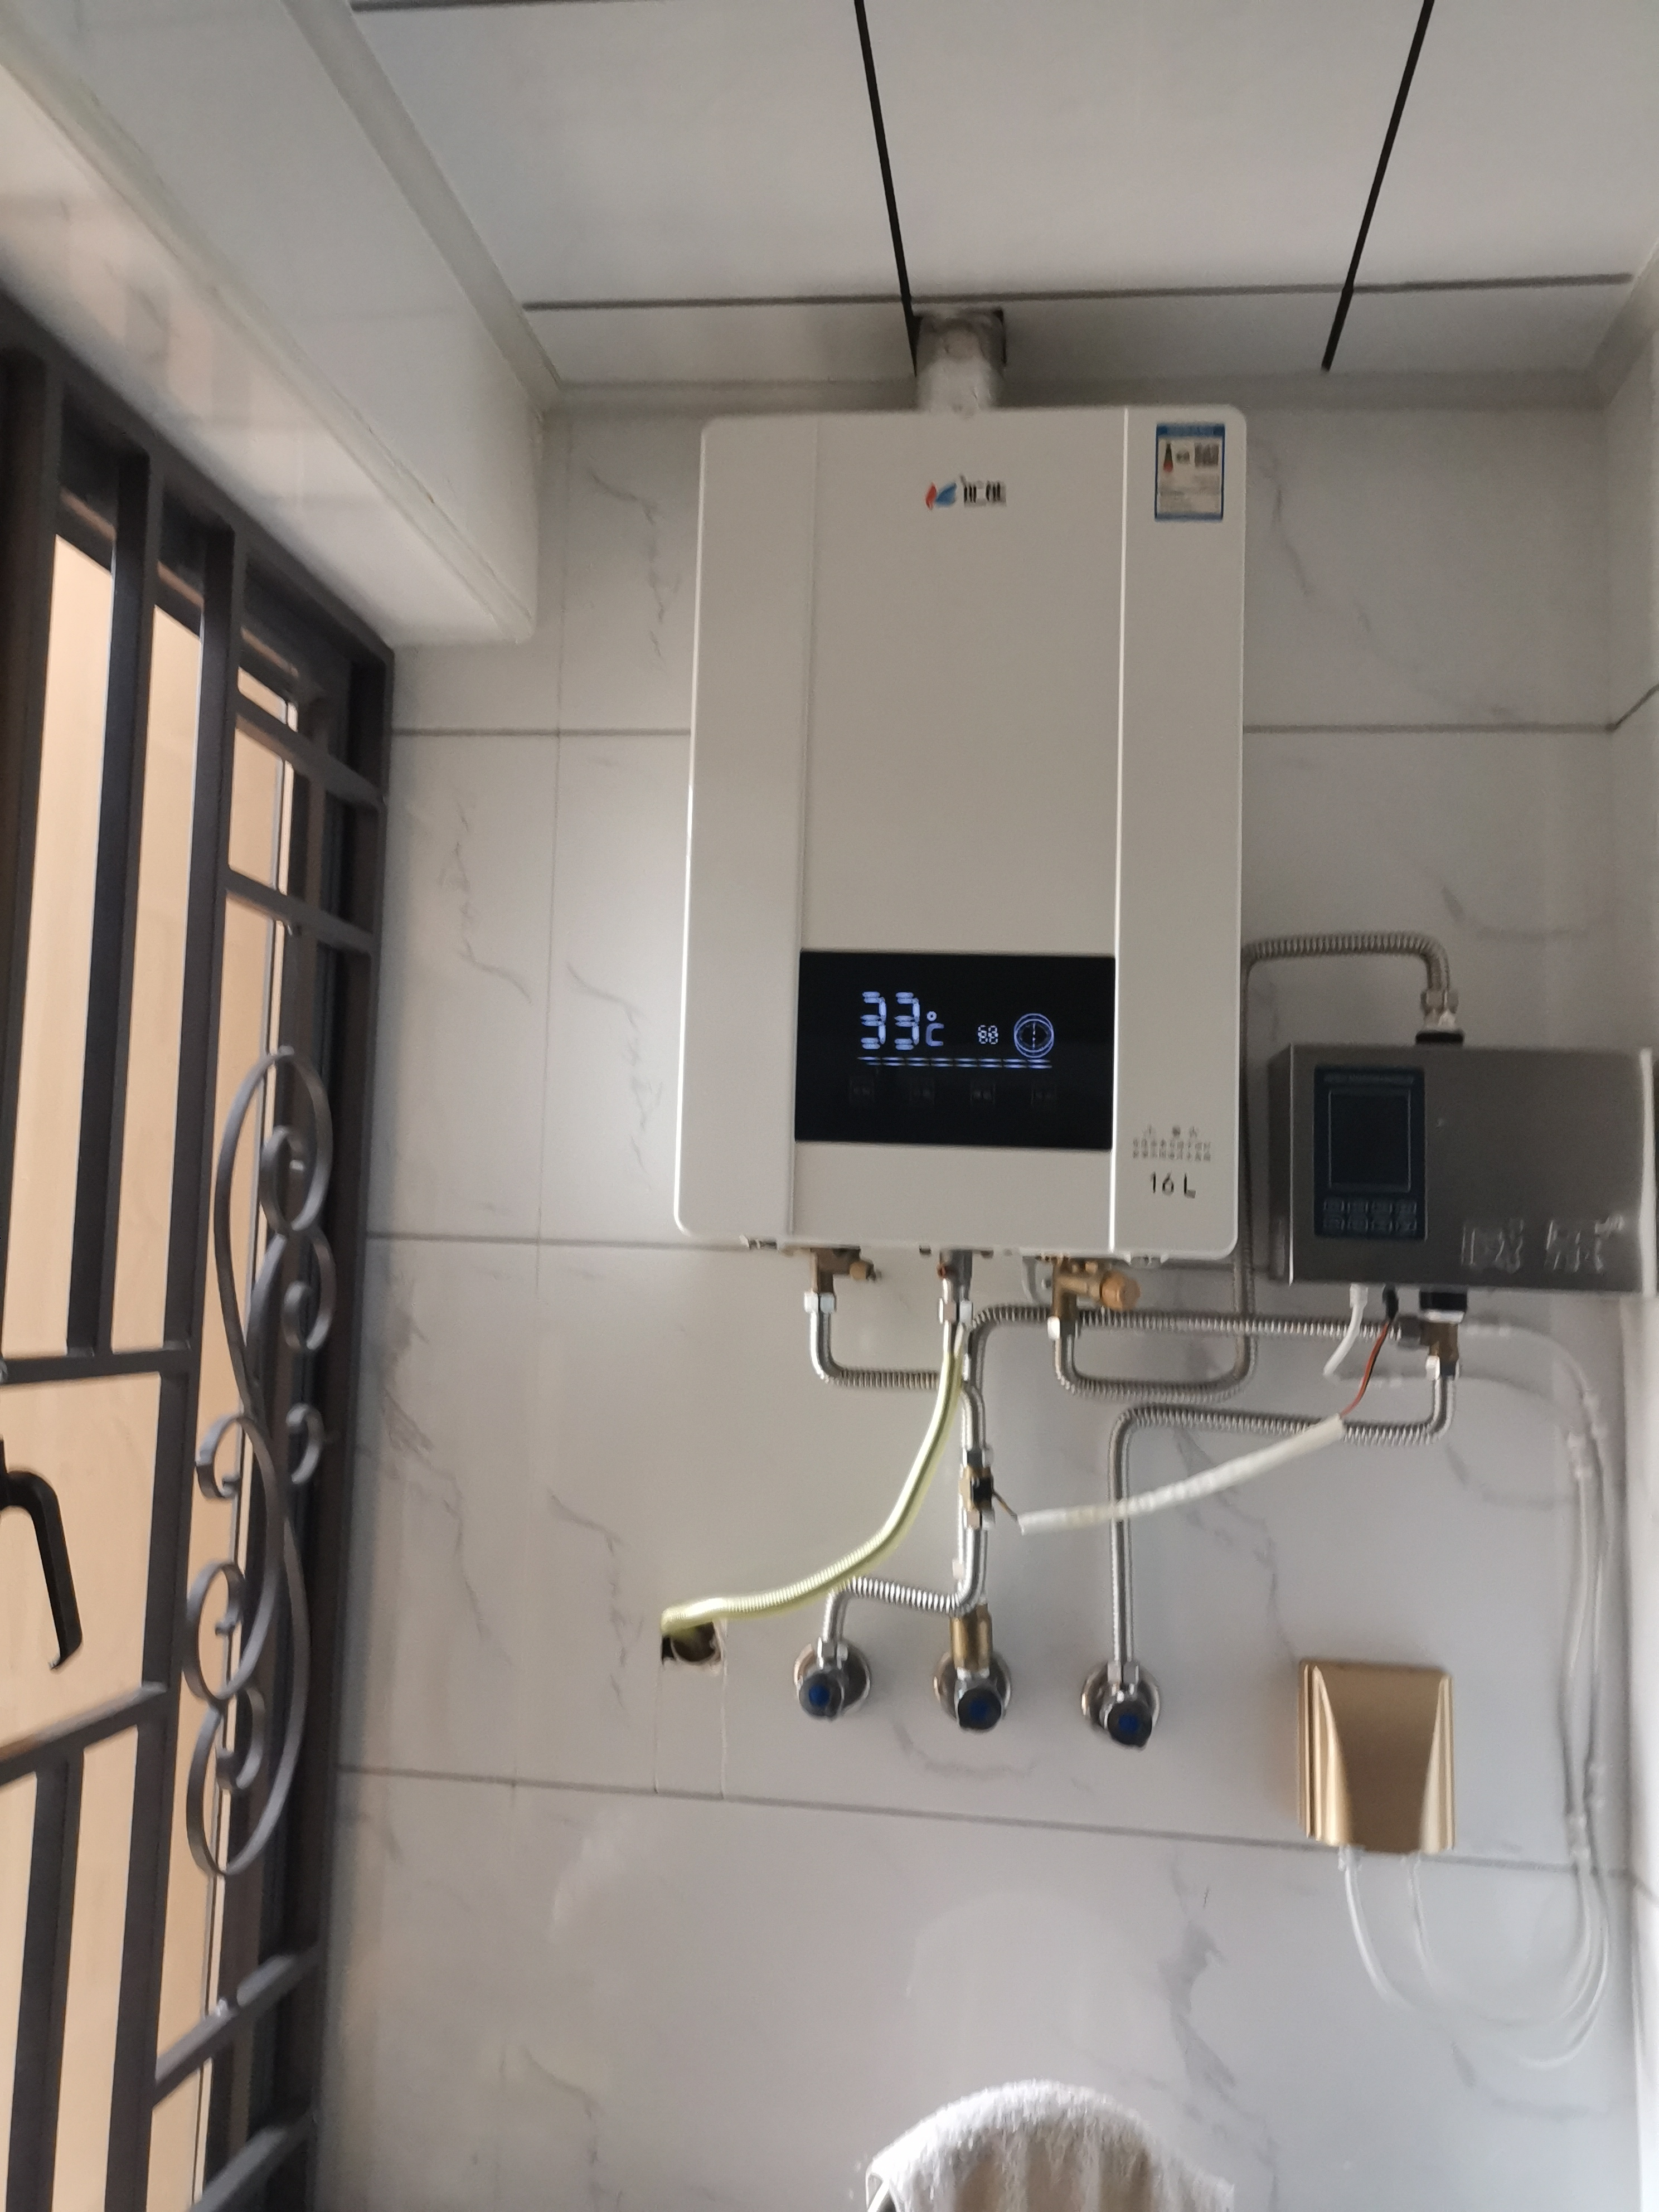loudou: (917, 467, 1021, 517)
